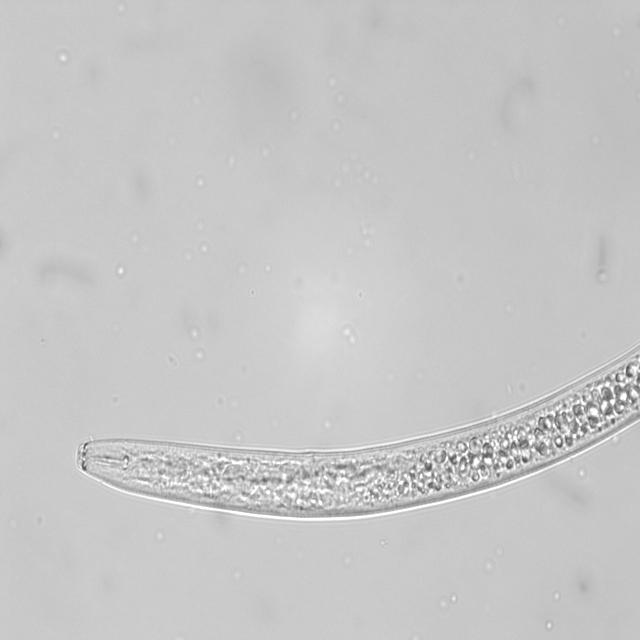Pratylenchus: (74, 336, 640, 521)
